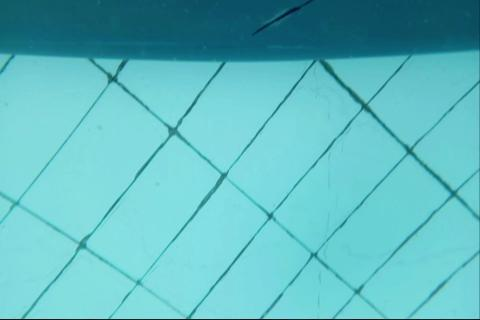keretakan: (253, 0, 311, 39)
